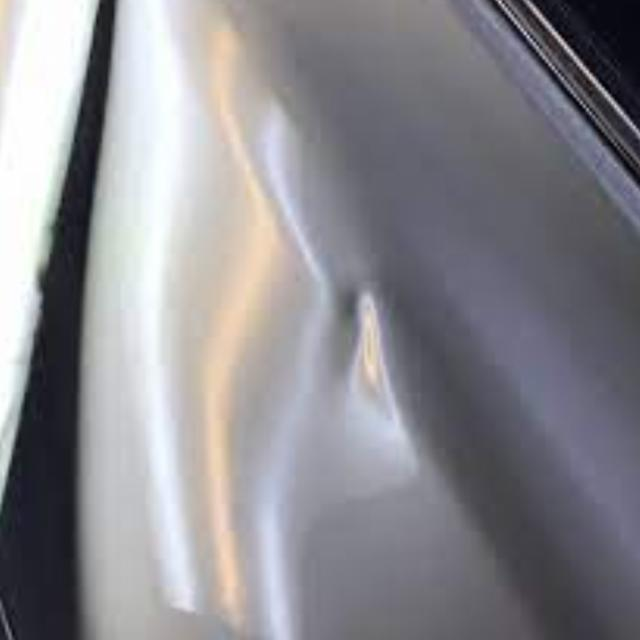dents: (312, 274, 424, 464)
